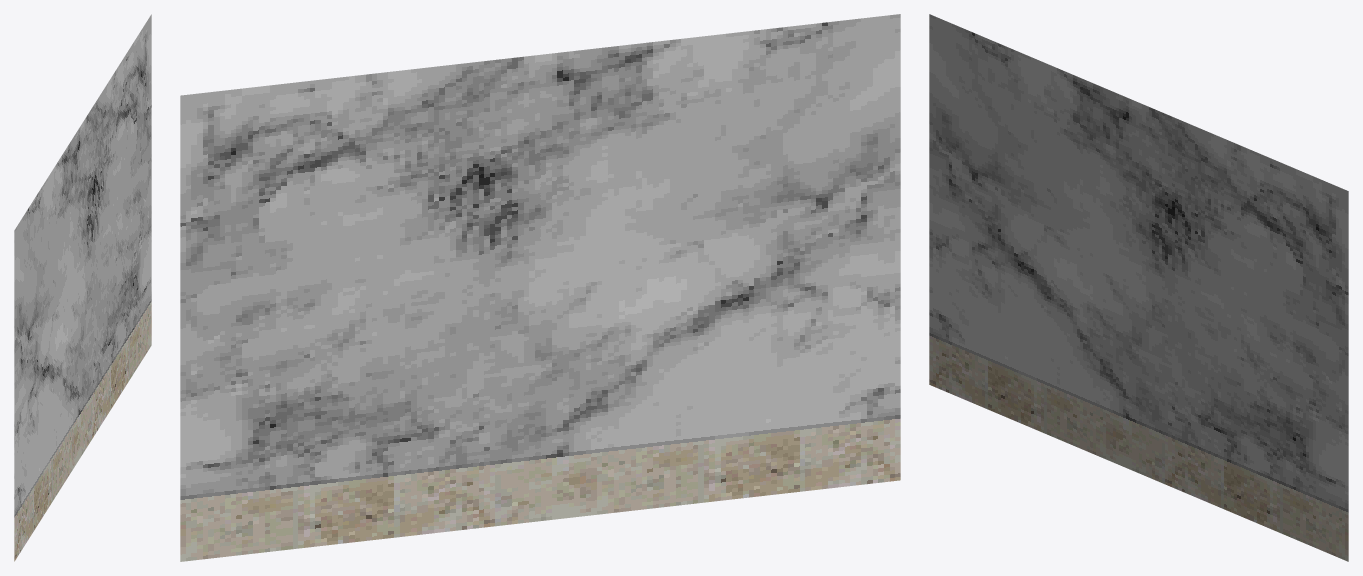
The model's file is wallDiagonalMarble.glb.
The picture shows the model from 3 angles, left to right: view 1: azimuth 30°, elevation 25°; view 2: azimuth 150°, elevation 25°; view 3: azimuth 270°, elevation 25°; orthographic projection. The views are drawn at different scales.
Parts seen in each view (by area): view 1: wallDiagonalMarble; view 2: wallDiagonalMarble; view 3: wallDiagonalMarble.
Part boxes in pixels (<box>): wallDiagonalMarble: <box>14,14,151,561</box>; wallDiagonalMarble: <box>180,14,900,561</box>; wallDiagonalMarble: <box>929,14,1348,561</box>.
Size of the model in its own units: 4.1 by 4 by 4.1.
Materials: 1 (1 with a texture image).
